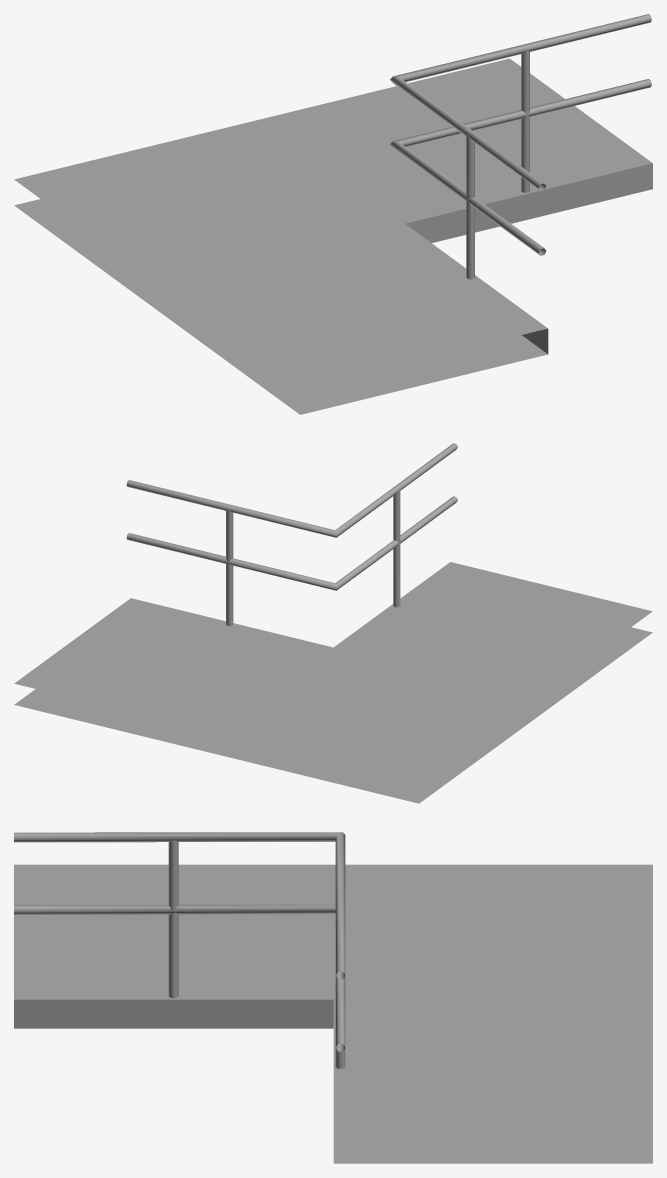
Rendered from SM_Railing_400_600.FBX.
The picture shows the model from 3 angles, top to bottom: view 1: azimuth 30°, elevation 25°; view 2: azimuth 150°, elevation 25°; view 3: azimuth 270°, elevation 25°; orthographic projection. The views are drawn at different scales.
Visible parts, largest first — view 1: SM_Railing_400_600; view 2: SM_Railing_400_600; view 3: SM_Railing_400_600.
Boxes of the visible parts, x1,y1,x2,y2 form: SM_Railing_400_600: (14, 14, 652, 414); SM_Railing_400_600: (14, 443, 652, 803); SM_Railing_400_600: (14, 832, 652, 1163).
Bounding box in the file's own units: 400 × 400 × 133.
